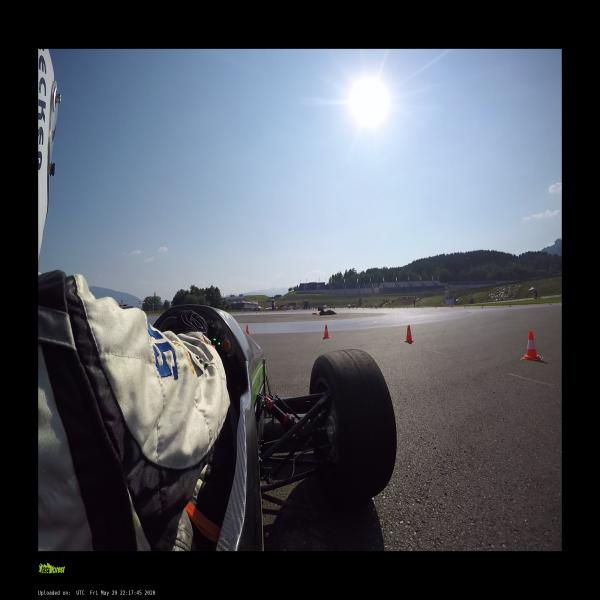orange_cone: (524, 330, 540, 359), (405, 325, 413, 342), (323, 324, 330, 339), (246, 325, 250, 335)
